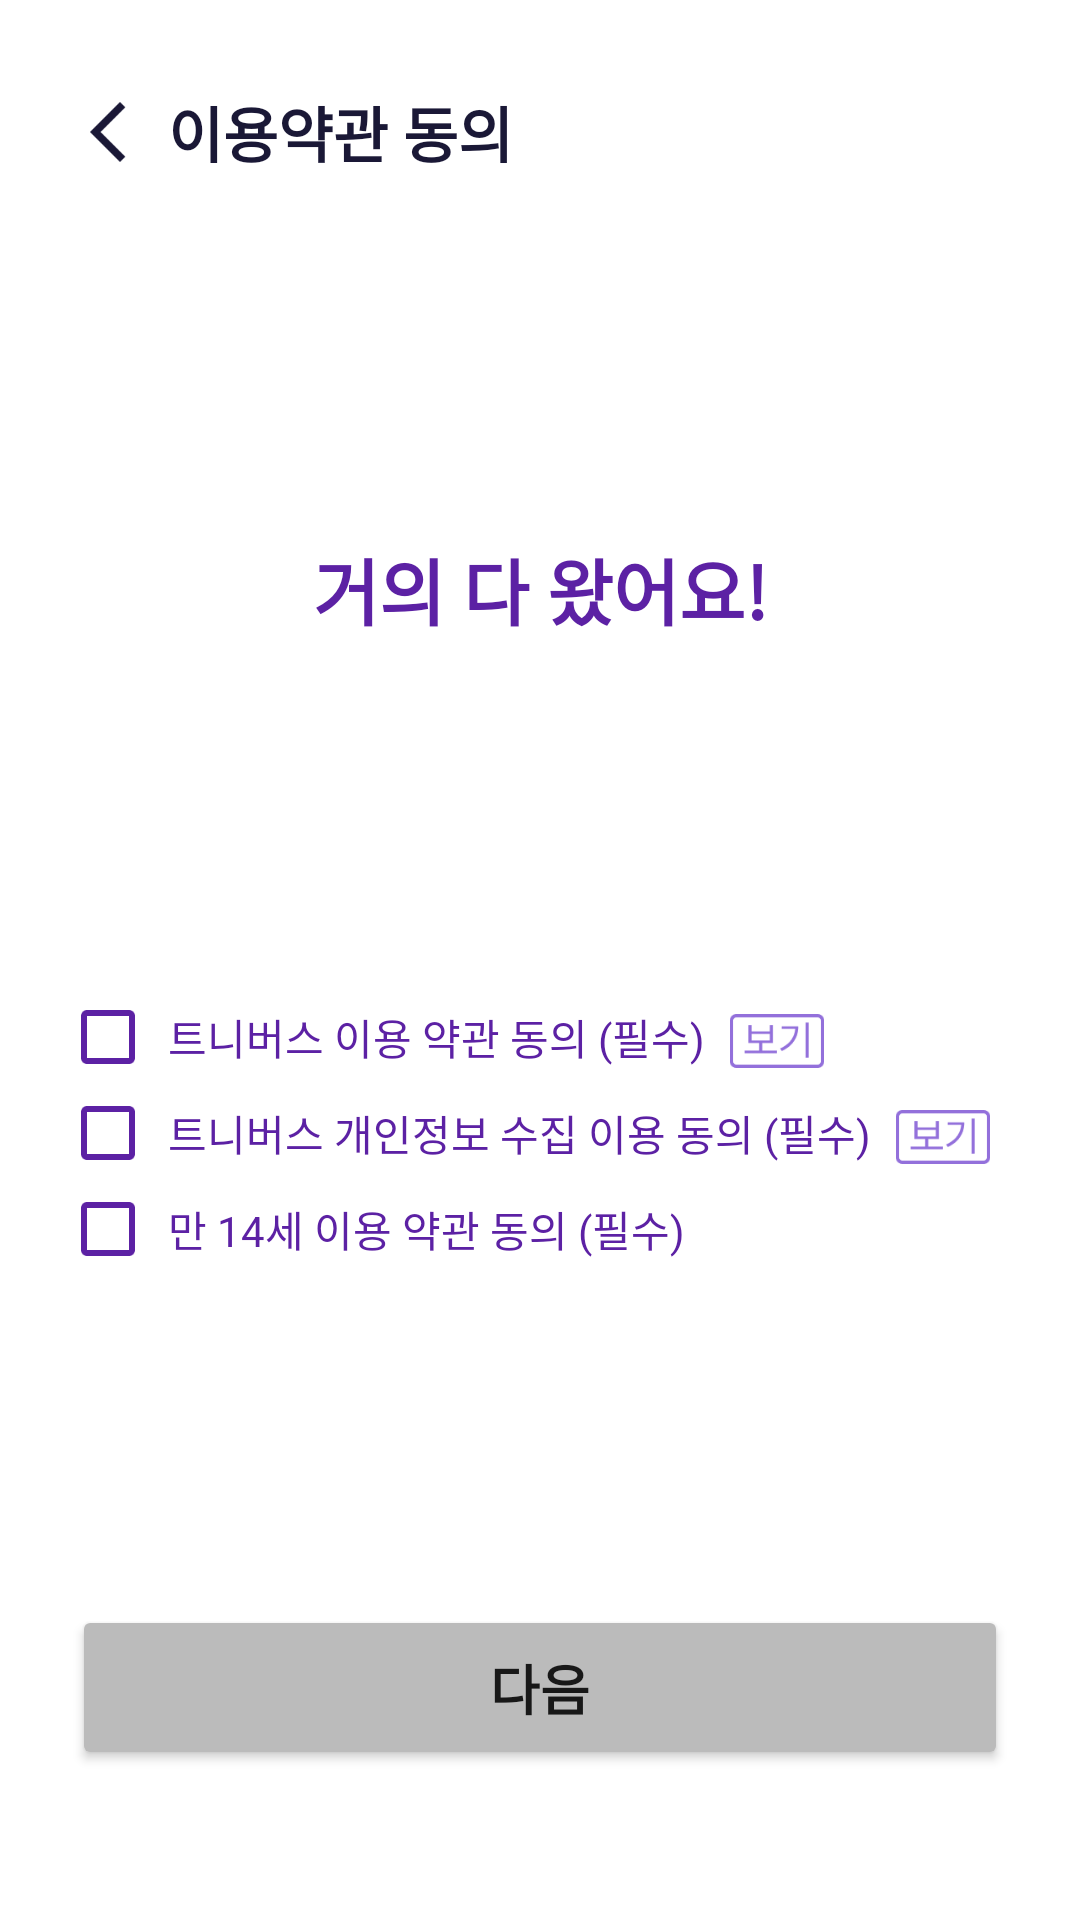

Icons on this 1080x1920 Android screen, each with the point to tap as (x,y):
back: (107,132)
